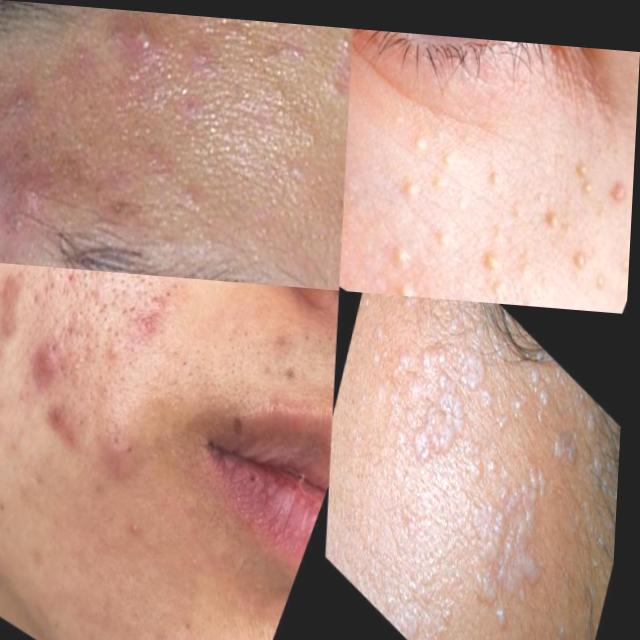7: (361, 75, 543, 220), (363, 220, 440, 291), (456, 226, 527, 296), (382, 148, 450, 215), (418, 206, 464, 265), (570, 129, 609, 194), (601, 147, 636, 208), (532, 184, 566, 240), (565, 225, 594, 271)
8: (36, 377, 101, 460), (90, 427, 150, 505), (19, 330, 76, 408), (99, 325, 129, 373)
9: (108, 7, 172, 82)
blackheads: (449, 404, 577, 640), (387, 288, 500, 501), (497, 316, 624, 501), (123, 290, 179, 358), (0, 261, 38, 351), (542, 584, 580, 640), (127, 508, 157, 556), (0, 429, 12, 510)
pustules: (0, 148, 24, 227)
